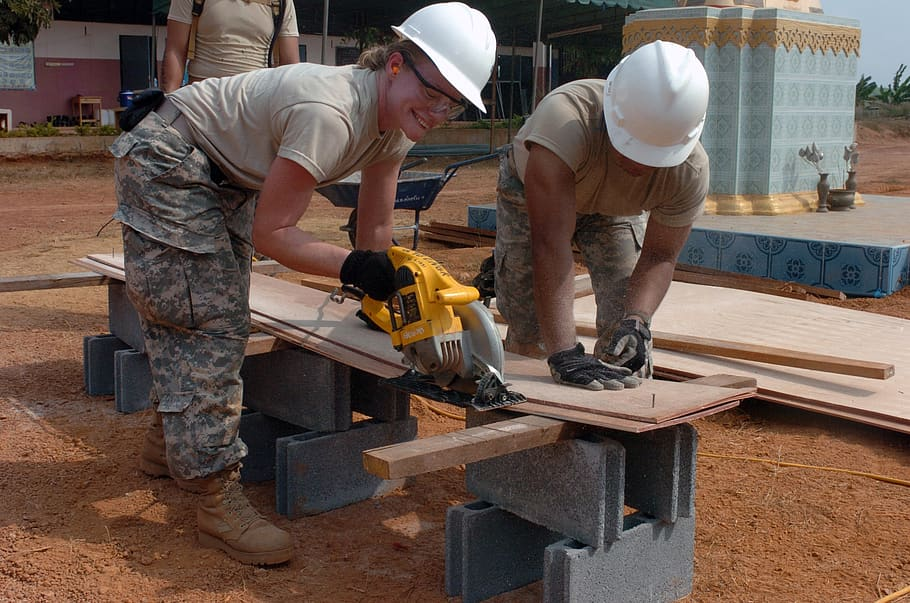Hard Hat: (599, 38, 709, 181), (387, 6, 496, 146)
Person: (104, 9, 493, 566), (499, 29, 710, 391), (160, 2, 304, 94)
